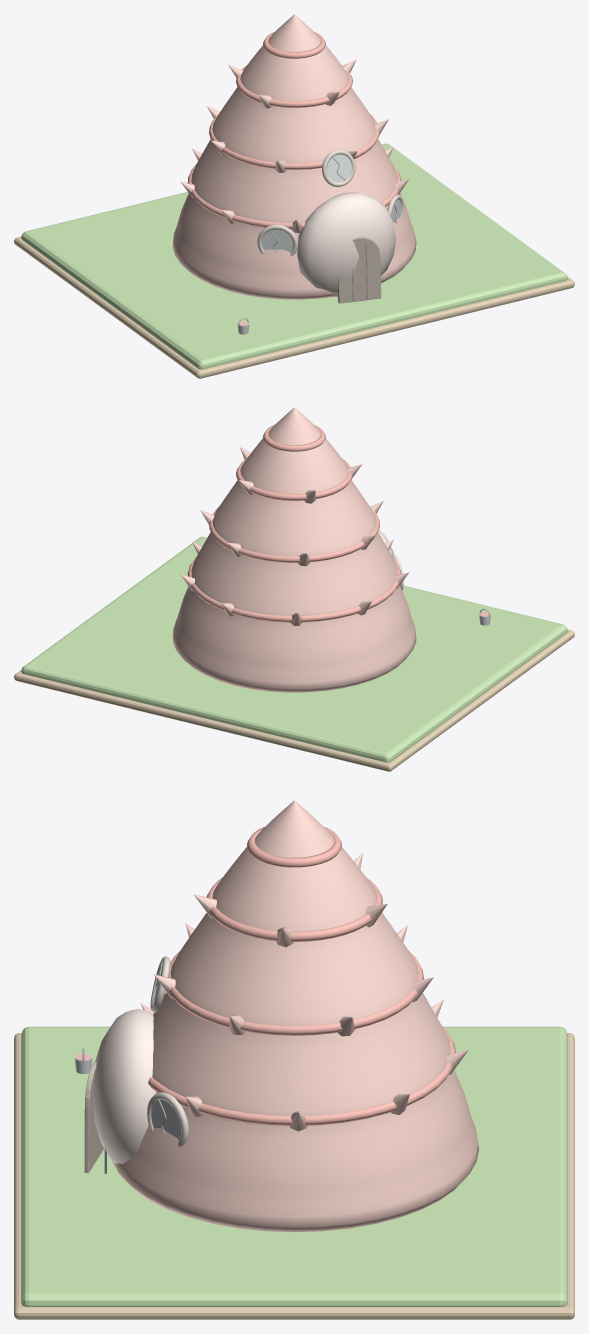
The model's file is building_ocean_L04.glb.
3 views of the same model, one above another, from view 1: azimuth 30°, elevation 25°; view 2: azimuth 150°, elevation 25°; view 3: azimuth 270°, elevation 25° (orthographic). The views are drawn at different scales.
Visible parts, largest first — view 1: Body, ocean_L4; view 2: Body, ocean_L4; view 3: Body, ocean_L4.
Boxes of the visible parts, left/top/right/bottom form: Body: left=172, top=14, right=416, bottom=303; ocean_L4: left=14, top=143, right=574, bottom=378; Body: left=172, top=407, right=416, bottom=692; ocean_L4: left=14, top=536, right=574, bottom=771; Body: left=84, top=800, right=478, bottom=1232; ocean_L4: left=14, top=1026, right=574, bottom=1319.
Size of the model in its own units: 26.61 by 16.97 by 22.6.
